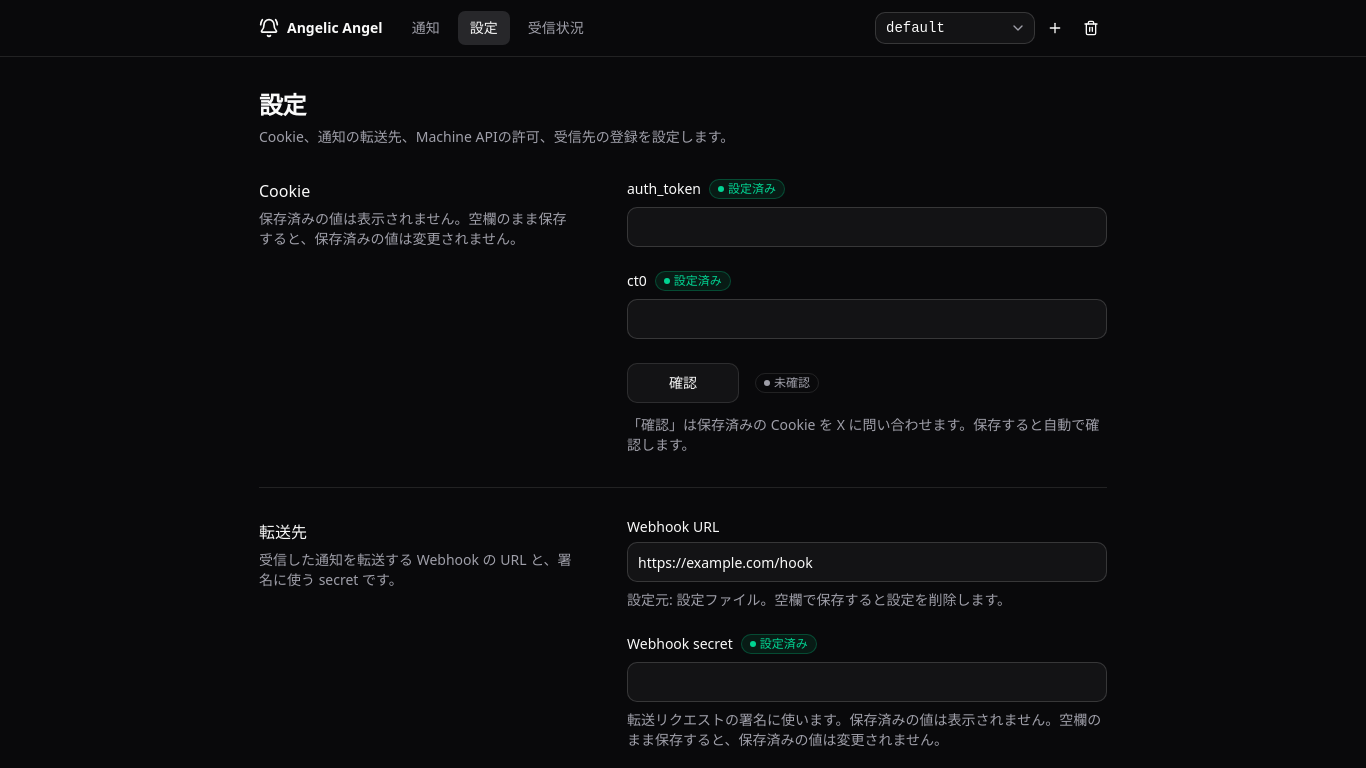
Test: adding an account › reports a duplicate id from the server and keeps the dialog open
expect the heading "設定" is shown: met, box [259, 88, 306, 121]
Click the button named "アカウントを追加" at (1055, 28), box [1039, 12, 1071, 44]
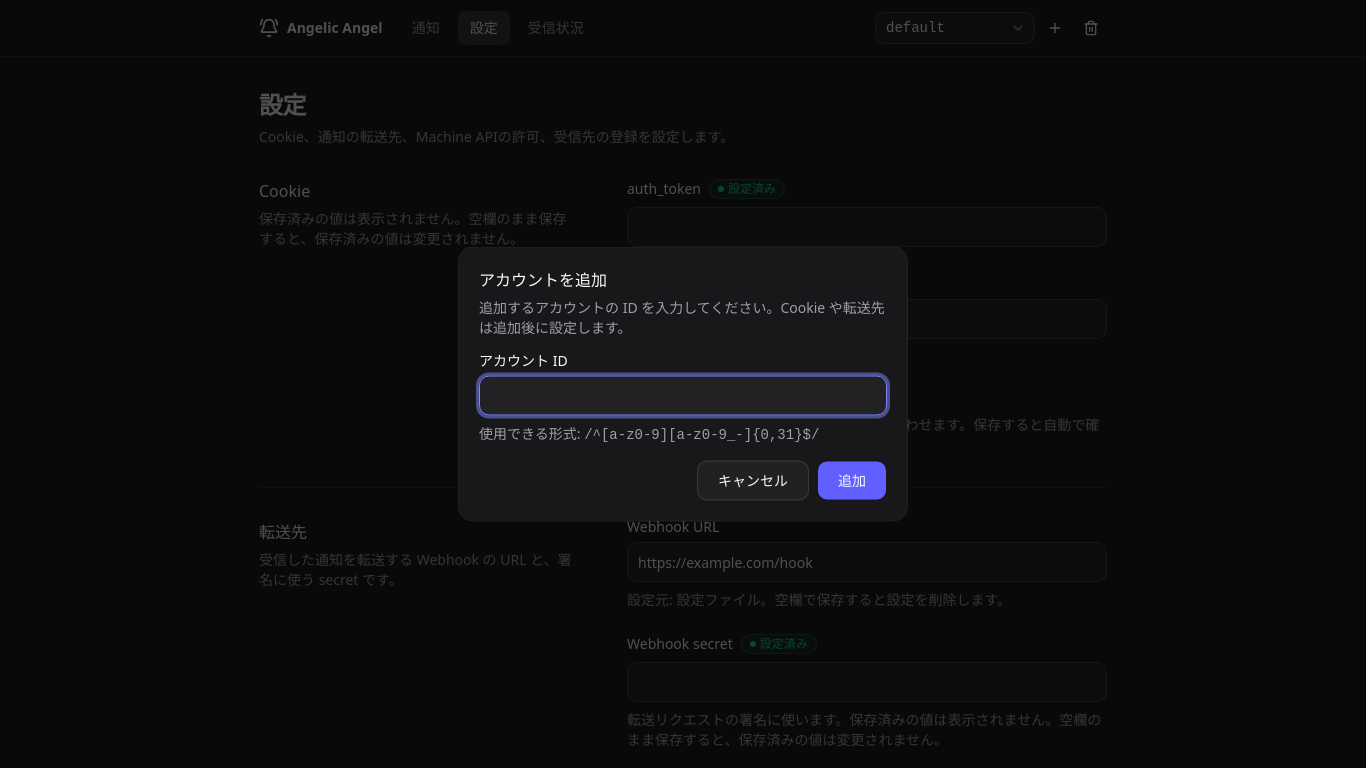
Type "default" into the field labelled "アカウント ID" at (683, 396), box [479, 376, 887, 416]
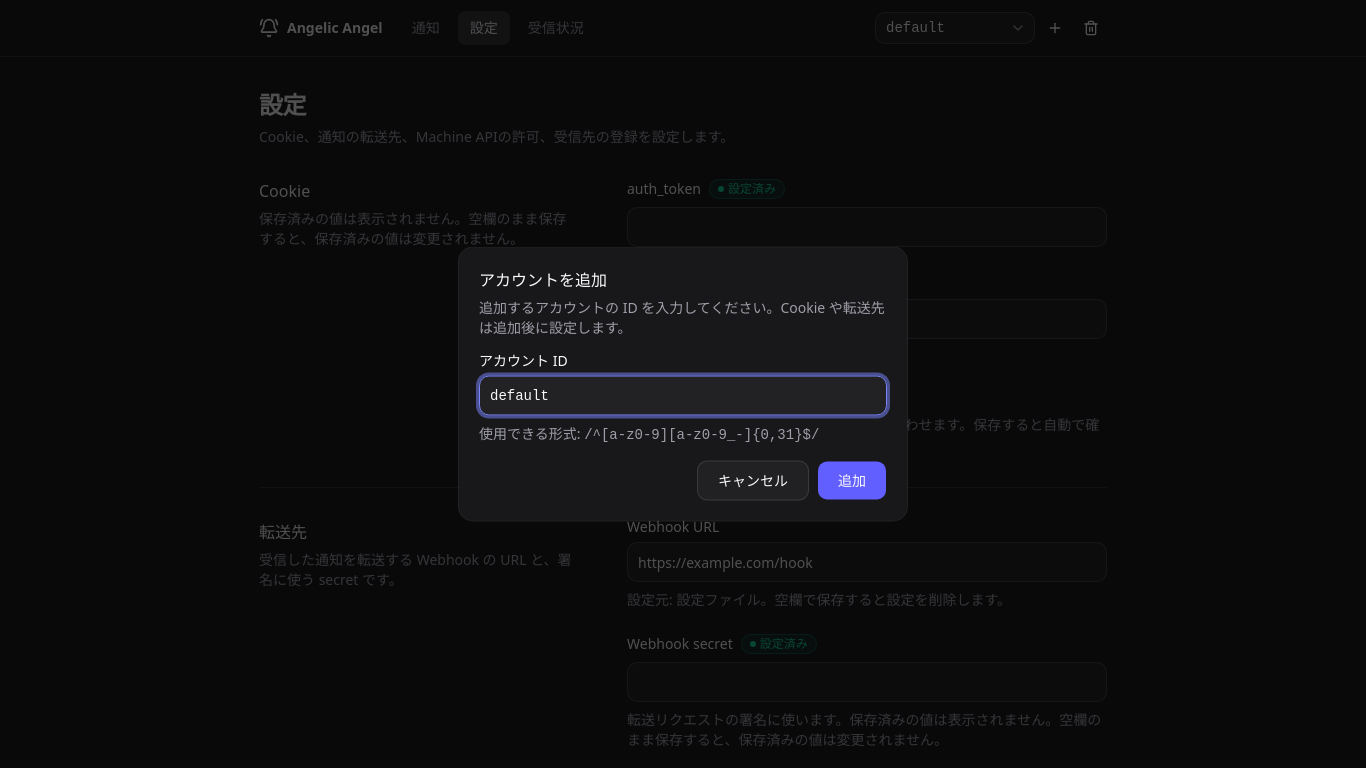
Click the button "追加" at (852, 480), box [817, 460, 887, 500]
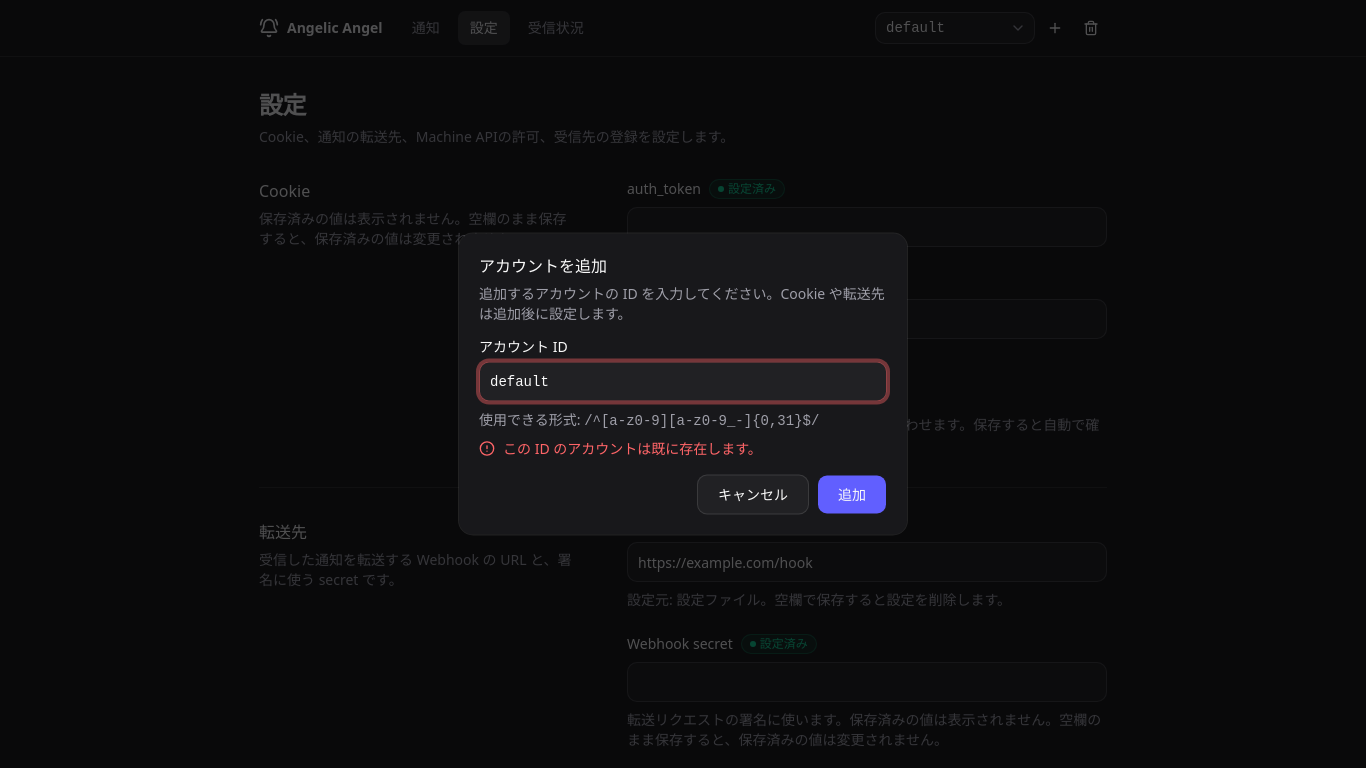
expect the button "追加" is enabled: met, box [817, 474, 887, 514]
expect the message shows "既に存在": met, box [503, 438, 762, 458]
